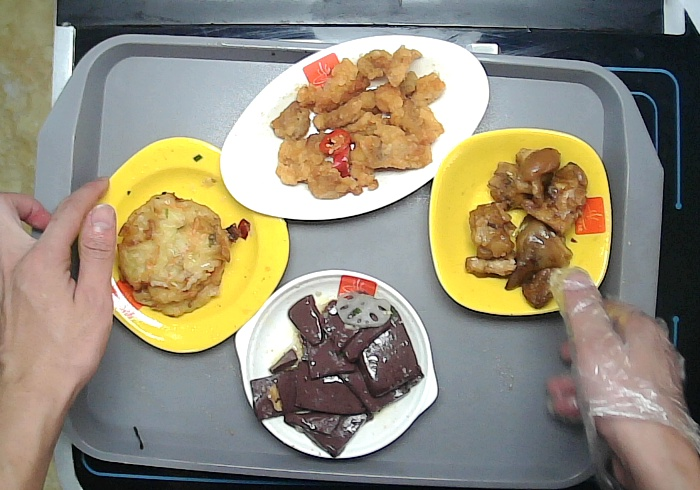SHKJ-Bao_Yu_Pan: (233, 267, 441, 461)
SHKJ-Huang_Se_Cai_Die: (425, 124, 616, 318)
SHKJ-Huang_Se_Si_Fang_Cai_Die: (77, 133, 293, 355)
SHKJ-Yu_Pan: (218, 33, 494, 222)
